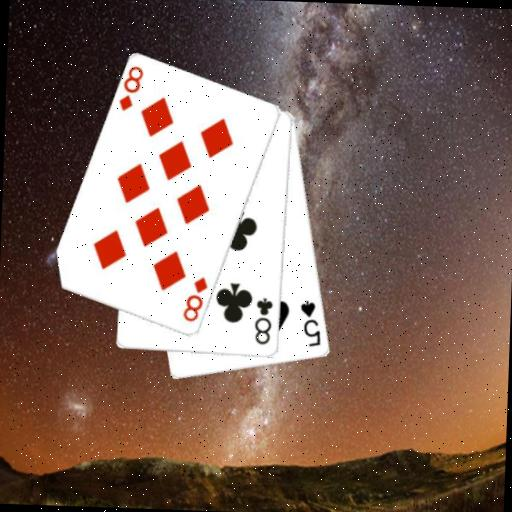5S: (296, 298, 323, 349)
8C: (251, 295, 275, 347)
8D: (179, 273, 209, 324), (116, 62, 145, 113)
